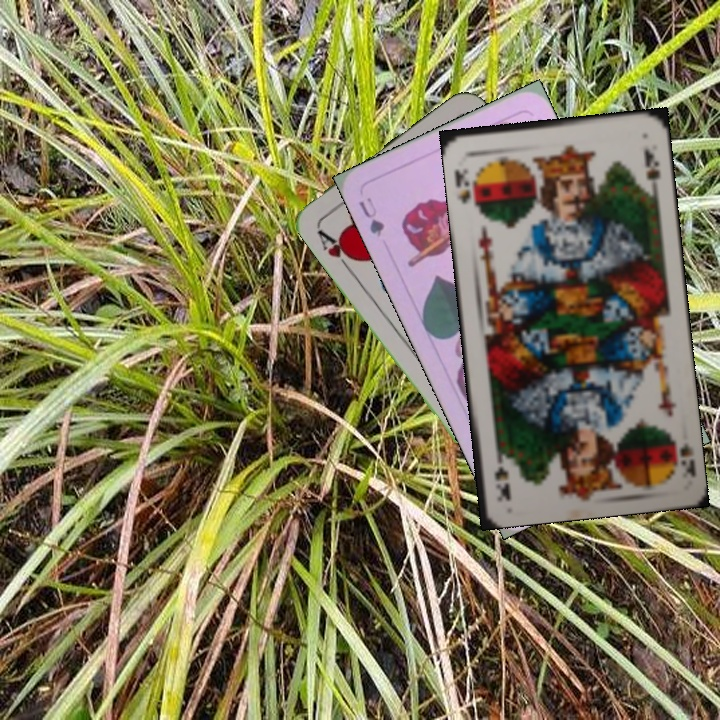GU: (354, 193, 387, 240)
HA: (312, 225, 359, 274)
SK: (451, 164, 473, 206), (676, 439, 697, 479)
